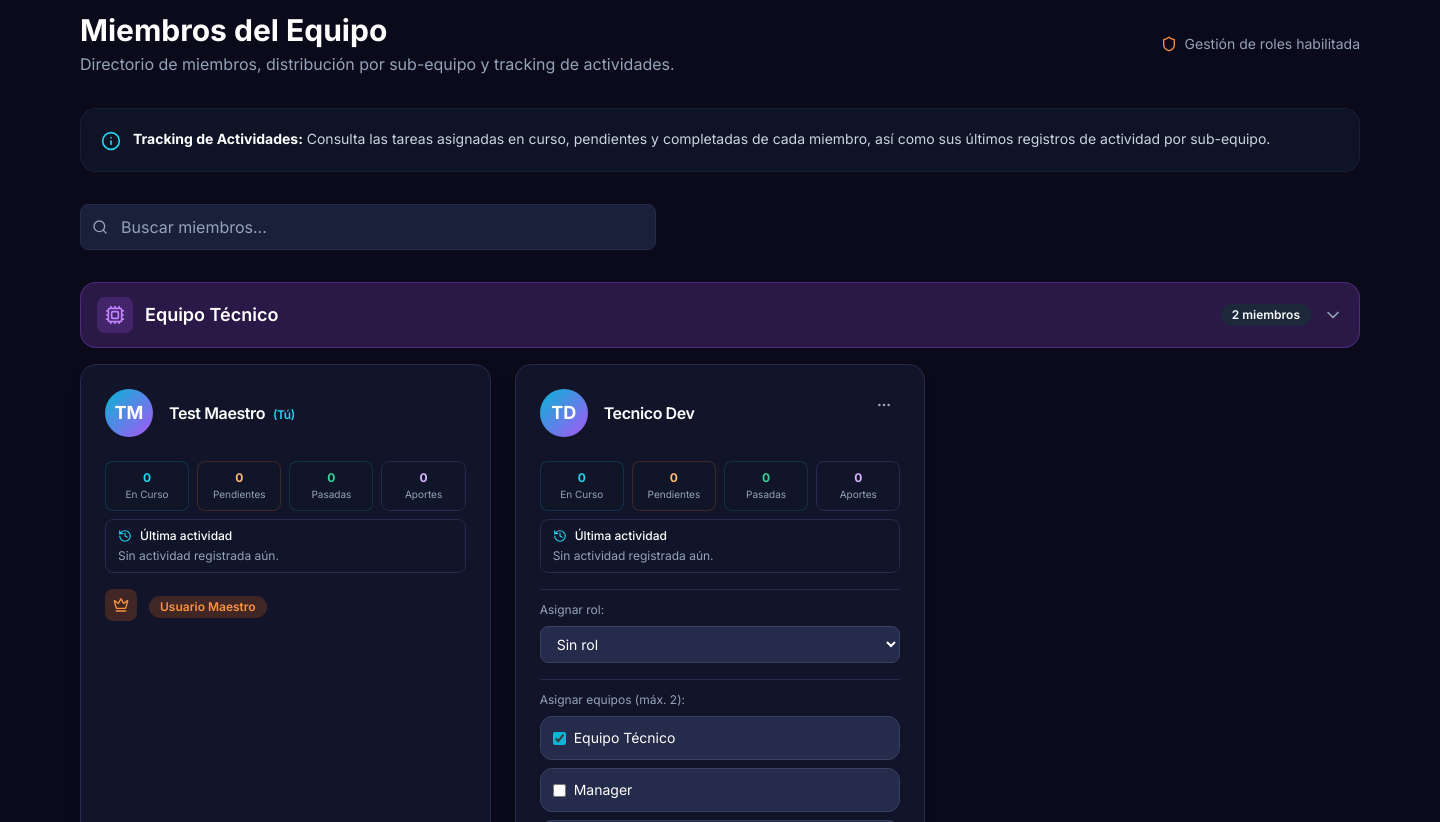
it: Members › shows empty state when no members match search
The width and height of the screenshot is (1440, 822).
Expected: the link "Test Maestro" is shown, [169,403,265,423]
In the search field with placeholder "Buscar miembros...": (368, 227) [80,204,656,250], type "nonexistent"
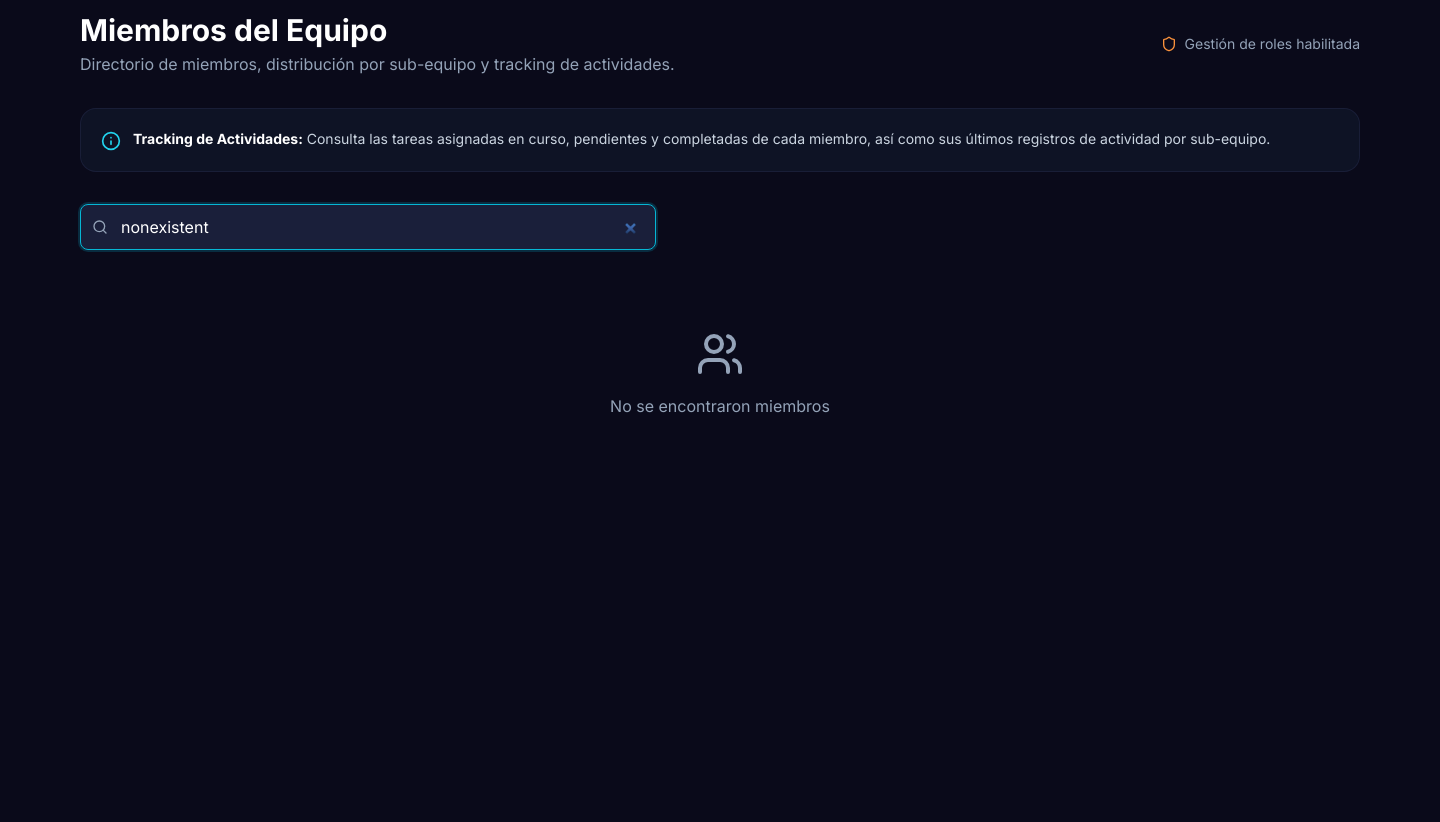
Now the text "No se encontraron miembros" is shown, box [610,396,830,416]
